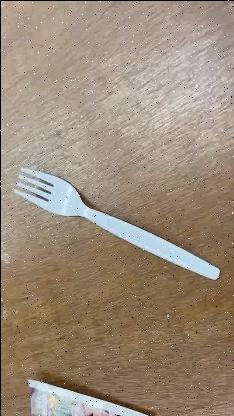Others: (12, 166, 220, 280)
